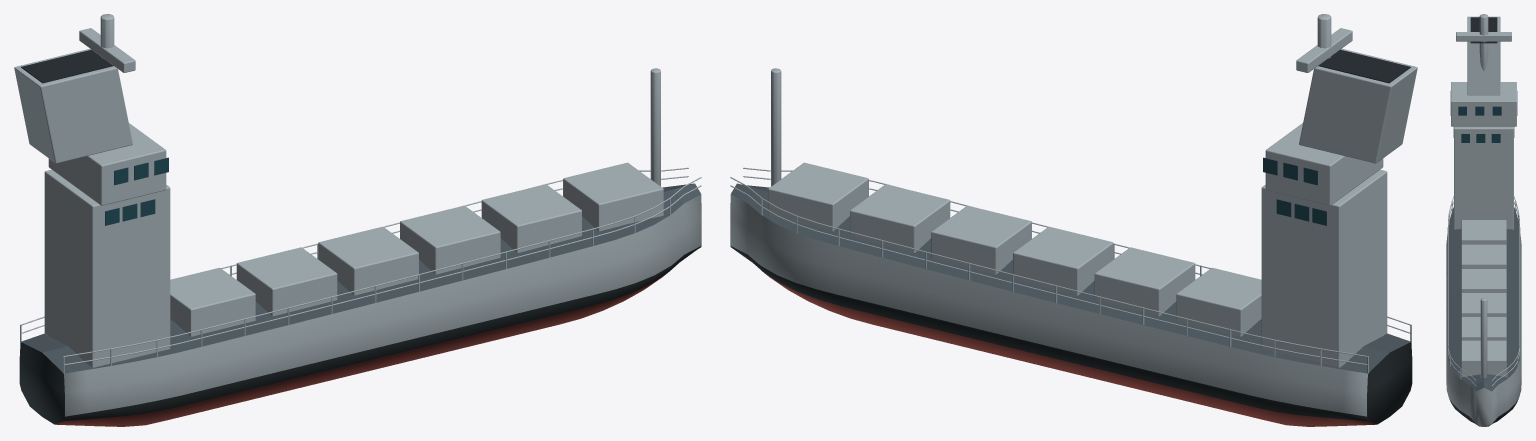
The model's file is civ_fishing_trawler.glb.
The picture shows the model from 3 angles, left to right: view 1: azimuth 30°, elevation 25°; view 2: azimuth 150°, elevation 25°; view 3: azimuth 270°, elevation 25°; orthographic projection. The views are drawn at different scales.
Parts seen in each view (by area): view 1: civ_fishing_trawler; view 2: civ_fishing_trawler; view 3: civ_fishing_trawler.
Part boxes in pixels (box(x1,y1,x2,y2)): civ_fishing_trawler: box(14, 14, 701, 426); civ_fishing_trawler: box(730, 14, 1417, 426); civ_fishing_trawler: box(1446, 14, 1521, 426).
Size of the model in its own units: 10 by 5.8 by 1.56.
